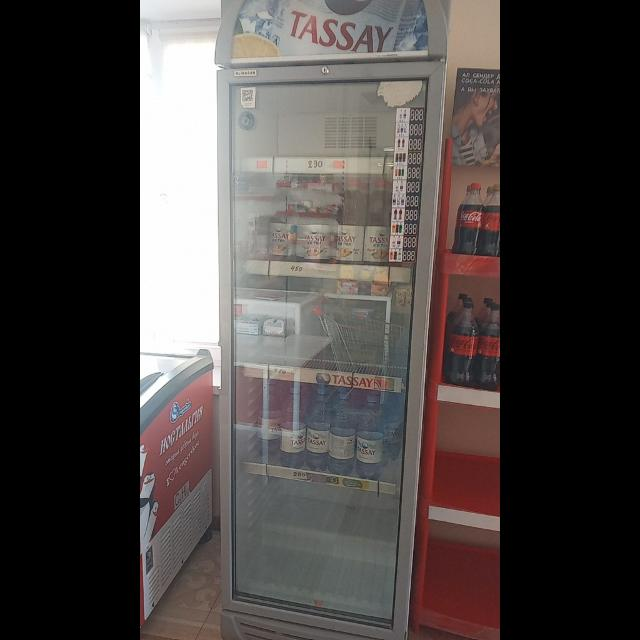Cooling-Display: (212, 1, 450, 640)
